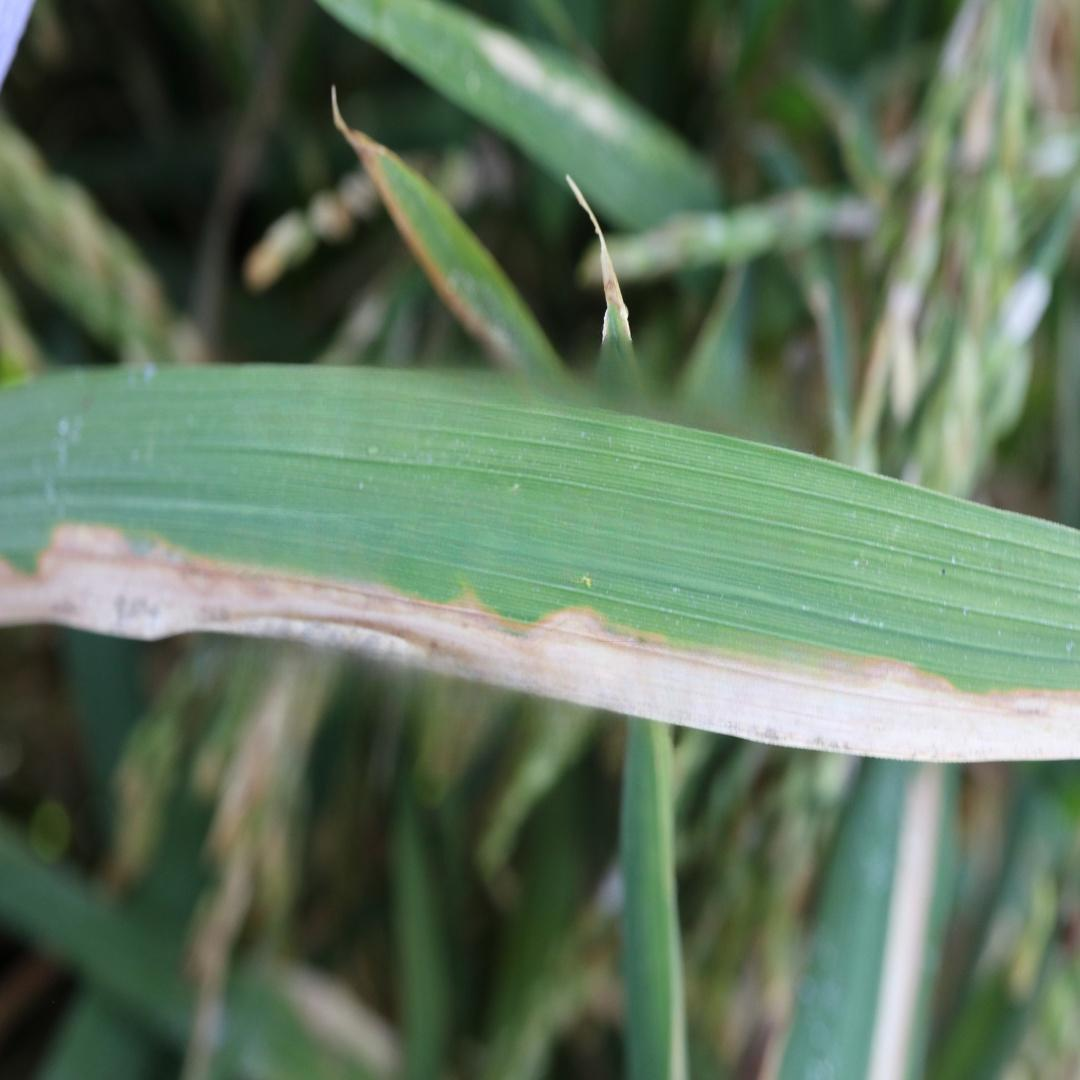BLB: (0, 524, 1079, 761)
LEAF: (0, 364, 1079, 761)
